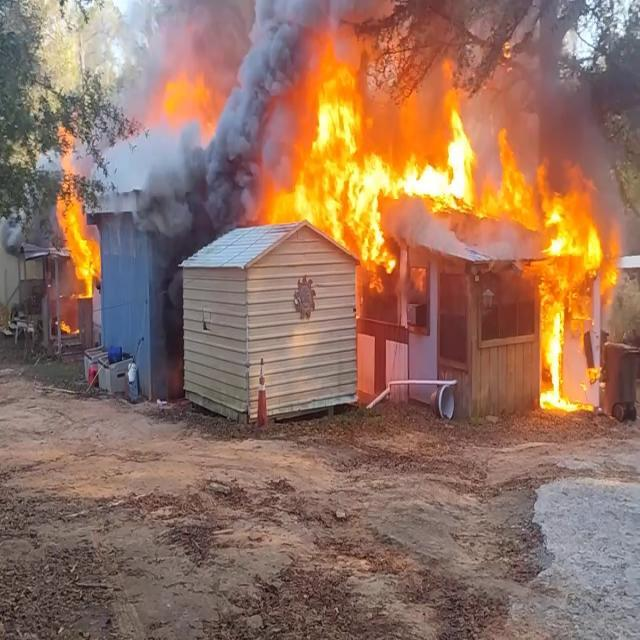Fire: (252, 28, 494, 294), (492, 122, 619, 414), (52, 122, 104, 300), (148, 58, 234, 138)
Smoke: (122, 65, 275, 253)
